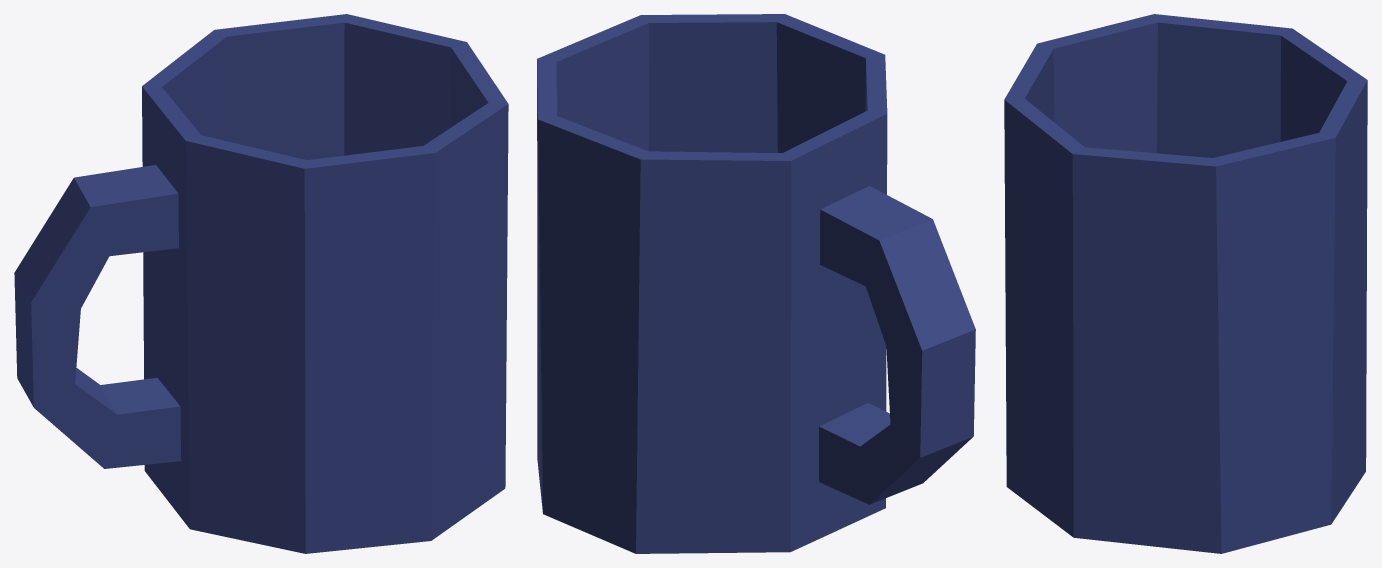
The model's file is Cup_1.fbx.
3 views of the same model, side by side, from view 1: azimuth 30°, elevation 25°; view 2: azimuth 150°, elevation 25°; view 3: azimuth 270°, elevation 25° (orthographic). The views are drawn at different scales.
Parts seen in each view (by area): view 1: Cup_1; view 2: Cup_1; view 3: Cup_1.
Boxes of the visible parts, x1,y1,x2,y2 form: Cup_1: (14,14,508,553); Cup_1: (537,14,975,553); Cup_1: (1004,14,1367,553).
Size of the model in its own units: 24.66 by 17.9 by 21.52.
